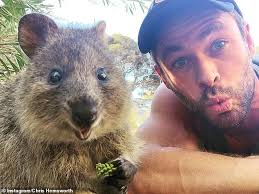quokka: (0, 14, 124, 194)
